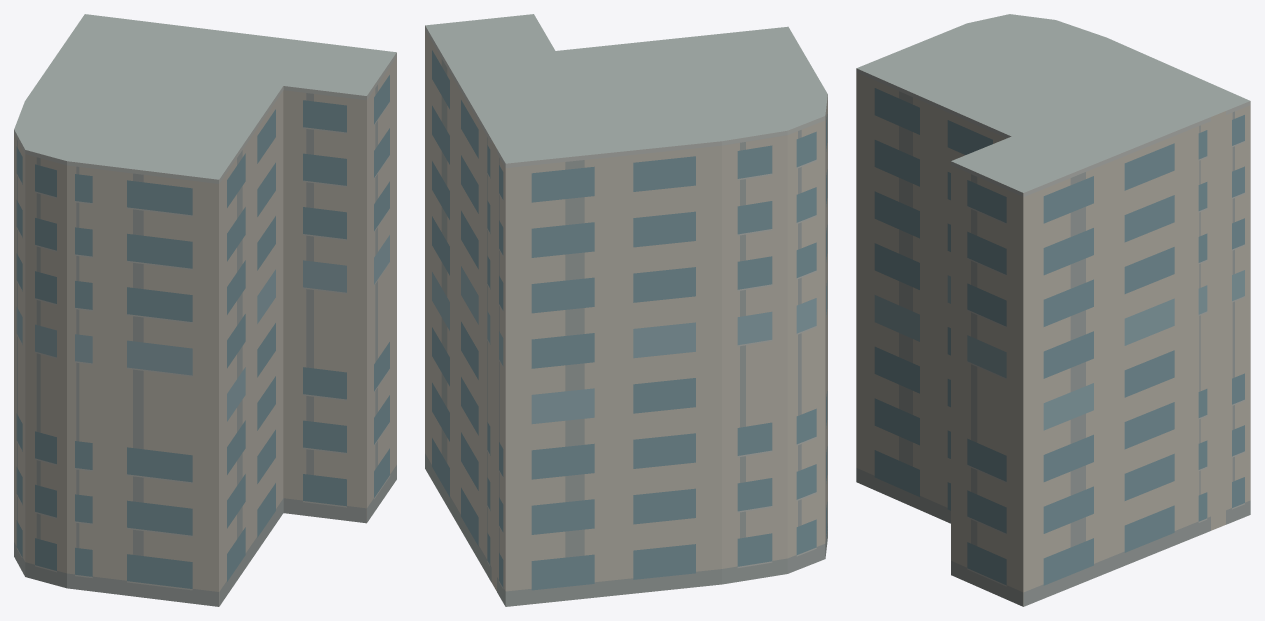
The model's file is residential-485ae80c-9038-44fa-895e-e99f3643d132.glb.
The picture shows the model from 3 angles, left to right: view 1: azimuth 30°, elevation 25°; view 2: azimuth 150°, elevation 25°; view 3: azimuth 270°, elevation 25°; orthographic projection. The views are drawn at different scales.
Parts seen in each view (by area): view 1: residential-485ae80c-9038-44fa-895e-e99f3643d132.tmp; view 2: residential-485ae80c-9038-44fa-895e-e99f3643d132.tmp; view 3: residential-485ae80c-9038-44fa-895e-e99f3643d132.tmp.
Part boxes in pixels (x1,y1,x2,y2): residential-485ae80c-9038-44fa-895e-e99f3643d132.tmp: (14,14,396,606); residential-485ae80c-9038-44fa-895e-e99f3643d132.tmp: (425,14,827,606); residential-485ae80c-9038-44fa-895e-e99f3643d132.tmp: (856,14,1250,606).
Size of the model in its own units: 22.65 by 24.4 by 21.07.
